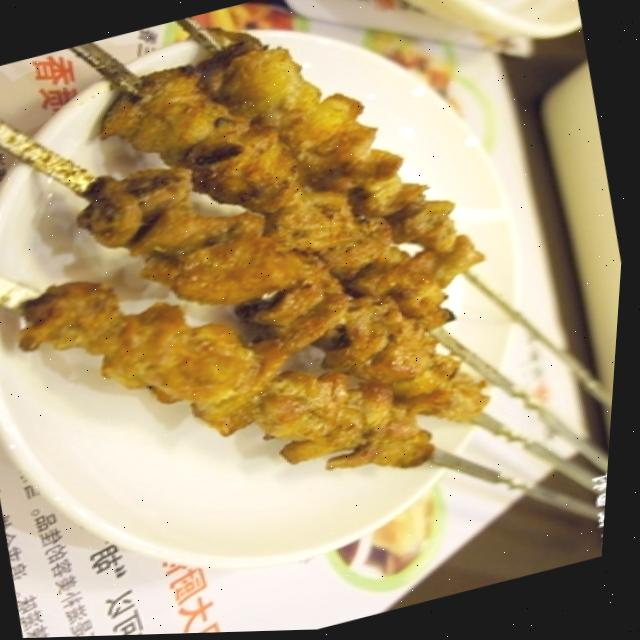烧串烤肉: (0, 0, 609, 567)
